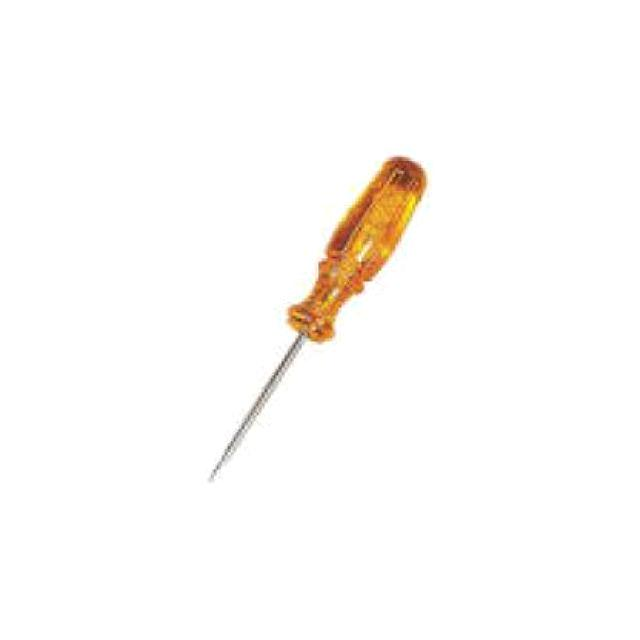screwdriver: (202, 153, 427, 490)
